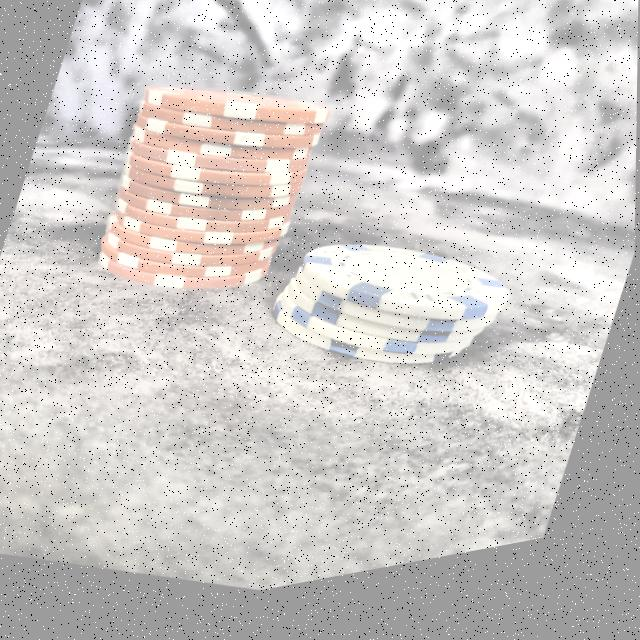Chip: (66, 37, 346, 345), (243, 184, 541, 441)
